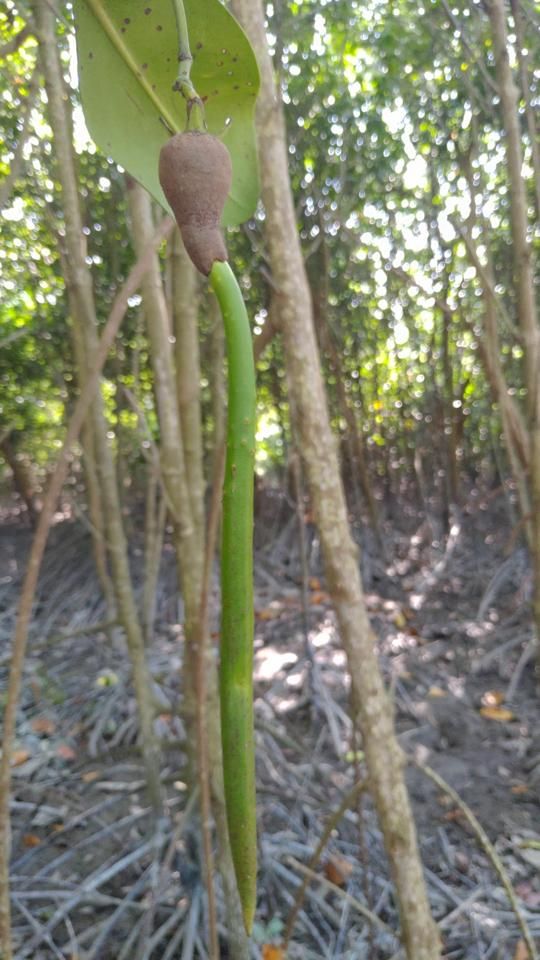mentah: (149, 111, 280, 940)
